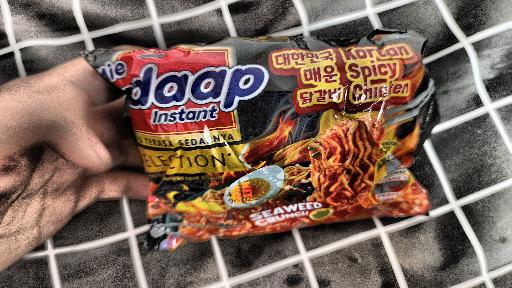mie sedap: (62, 27, 438, 230)
